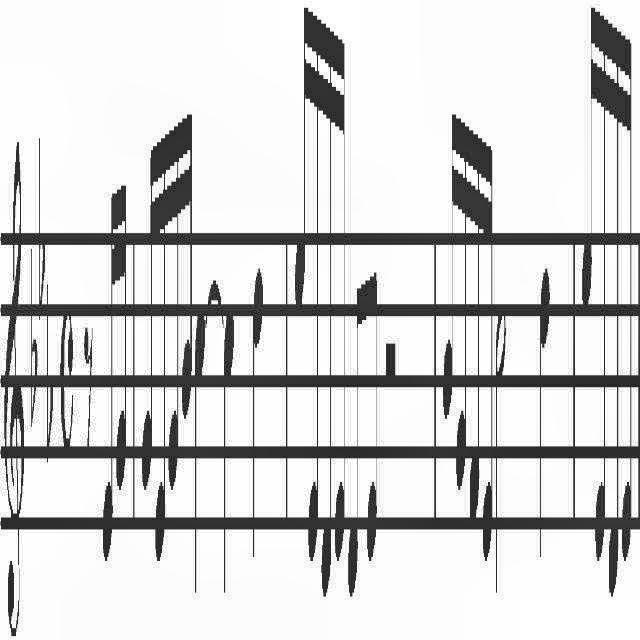Bass-clef: (2, 91, 26, 640)
Bemol: (44, 260, 56, 468), (35, 136, 45, 334), (29, 231, 37, 441)
Eighth-note: (348, 264, 360, 608), (366, 257, 378, 587)
Eighth-rest: (86, 303, 94, 481)
Half-note: (494, 295, 506, 591)
Quarter-note: (532, 231, 552, 574), (252, 238, 264, 552), (195, 287, 205, 585), (223, 307, 233, 587)
Sixteenth-note: (319, 0, 333, 608), (308, 0, 320, 596), (621, 8, 633, 604), (608, 11, 620, 602), (594, 11, 606, 577), (334, 14, 346, 574), (436, 83, 454, 420), (578, 0, 596, 320), (482, 125, 494, 602), (167, 102, 181, 506), (455, 80, 469, 484), (154, 102, 166, 572), (102, 158, 115, 570), (468, 102, 480, 542), (294, 0, 310, 308), (140, 109, 152, 507), (182, 86, 194, 438), (116, 163, 128, 483)
